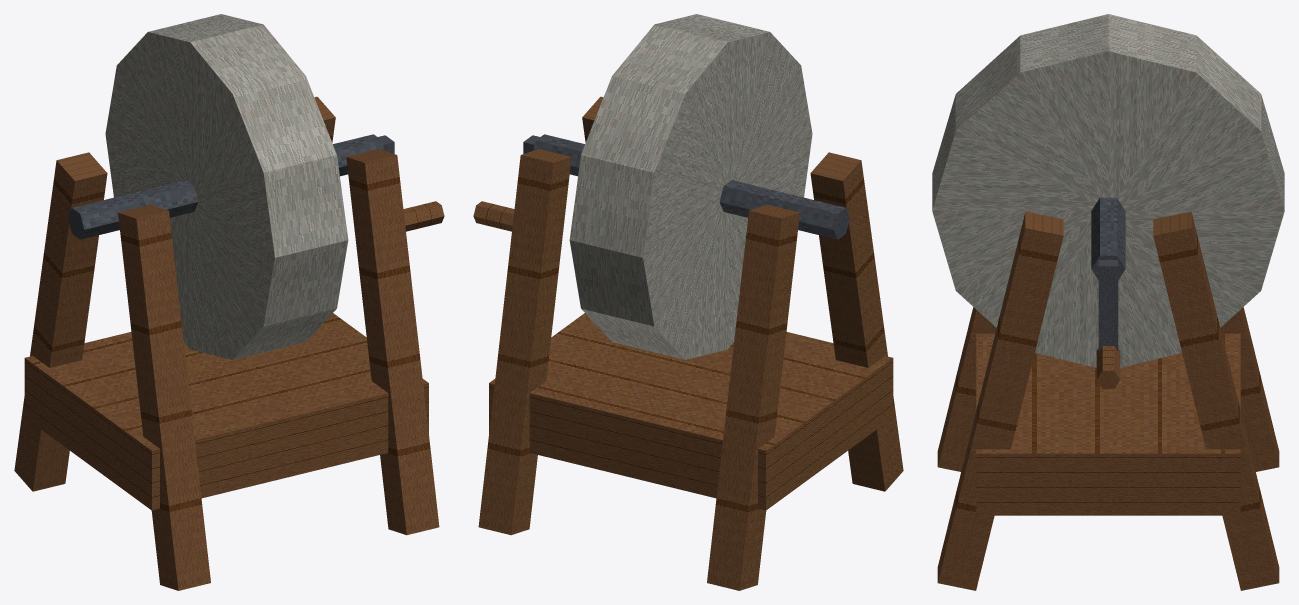
The model's file is rebolo_de_afiar.glb.
The picture shows the model from 3 angles, left to right: view 1: azimuth 30°, elevation 25°; view 2: azimuth 150°, elevation 25°; view 3: azimuth 270°, elevation 25°; orthographic projection. The views are drawn at different scales.
Parts seen in each view (by area): view 1: rebolo_de_afiar; view 2: rebolo_de_afiar; view 3: rebolo_de_afiar.
Boxes of the visible parts, <box> form: rebolo_de_afiar: <box>14,14,444,590</box>; rebolo_de_afiar: <box>473,14,903,590</box>; rebolo_de_afiar: <box>932,14,1284,590</box>.
Bounding box in the file's own units: 0.89 × 1.11 × 0.72.
1 material, 1 textured.
